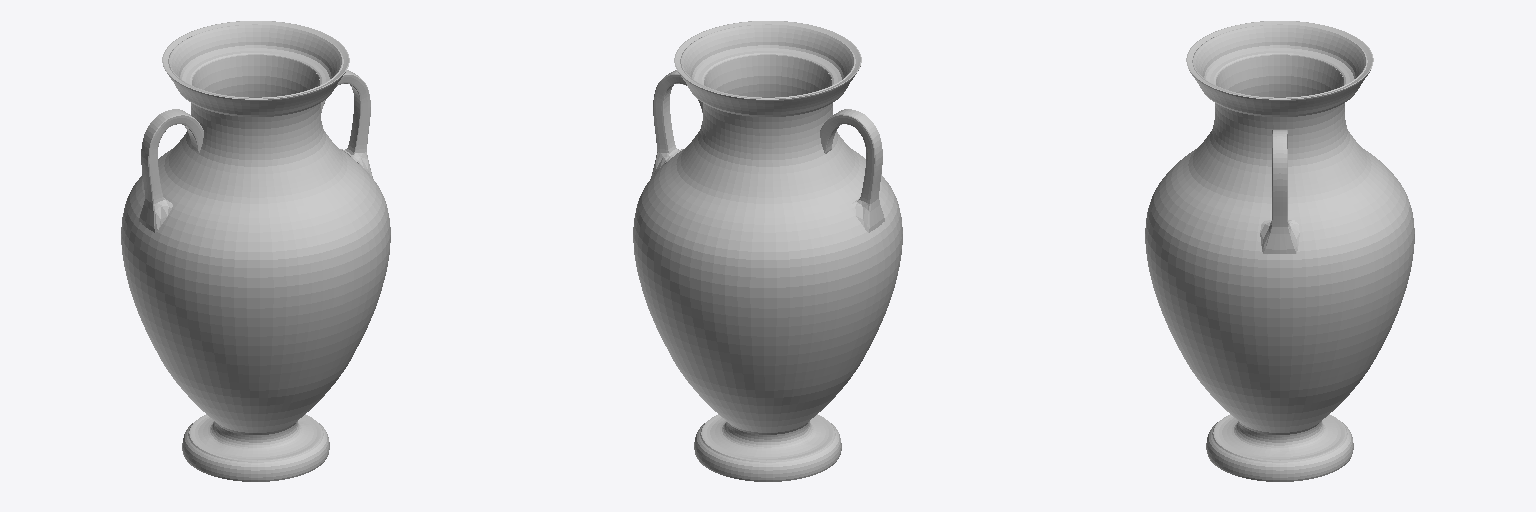
The model's file is modelojar.obj.
The picture shows the model from 3 angles: view 1: azimuth 30°, elevation 25°; view 2: azimuth 150°, elevation 25°; view 3: azimuth 270°, elevation 25°; orthographic projection.
Parts seen in each view (by area): view 1: Object_3; view 2: Object_3; view 3: Object_3.
Boxes of the visible parts, box(x1,y1,x2,y2) form: Object_3: box(121, 21, 390, 481); Object_3: box(633, 21, 902, 481); Object_3: box(1145, 21, 1414, 481).
Size of the model in its own units: 0.4641 by 0.7442 by 0.4641.